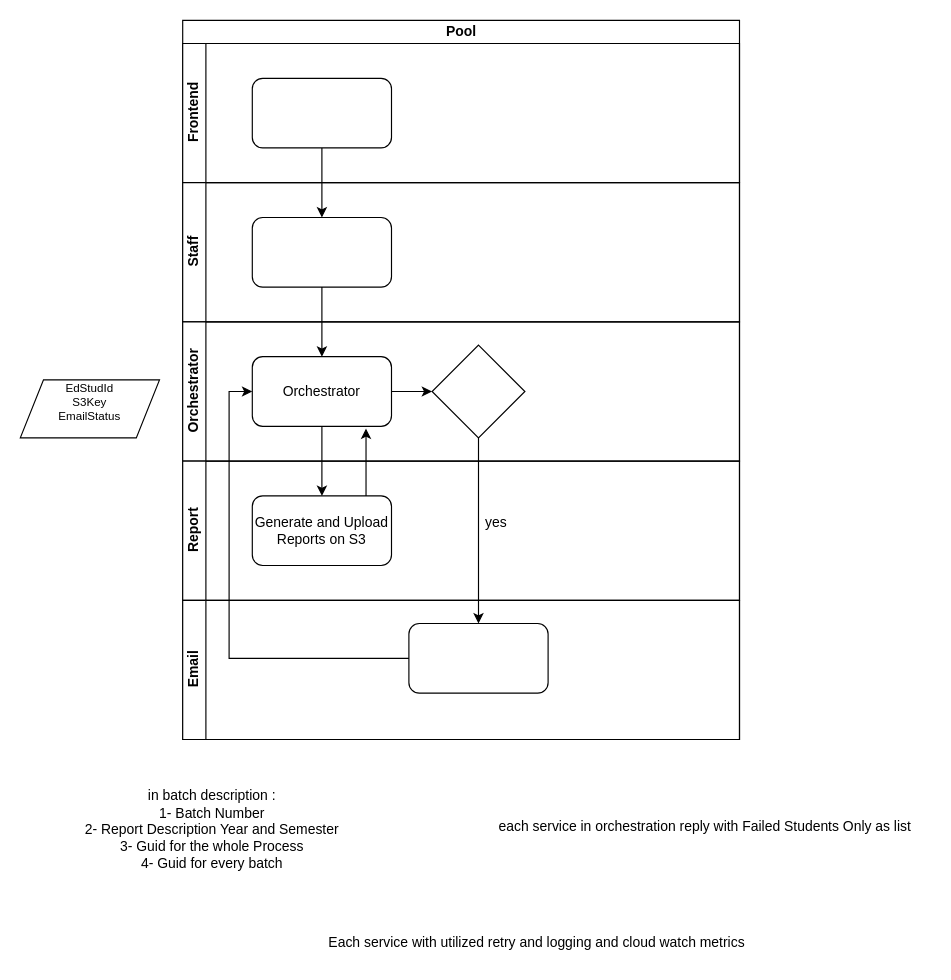
The diagram is 951 pixels wide and 980 high, and some of its shapes have lost their labels. The centre of each missing label's shape, as x and y in pixels:
"Batch Completed" belongs at pixel 478 391.
"Email the Transcript" belongs at pixel 478 657.
"Select Faculty , Year , And Semester" belongs at pixel 321 112.
"Split students to batches of 500 and raise event BatchReady" belongs at pixel 321 251.
